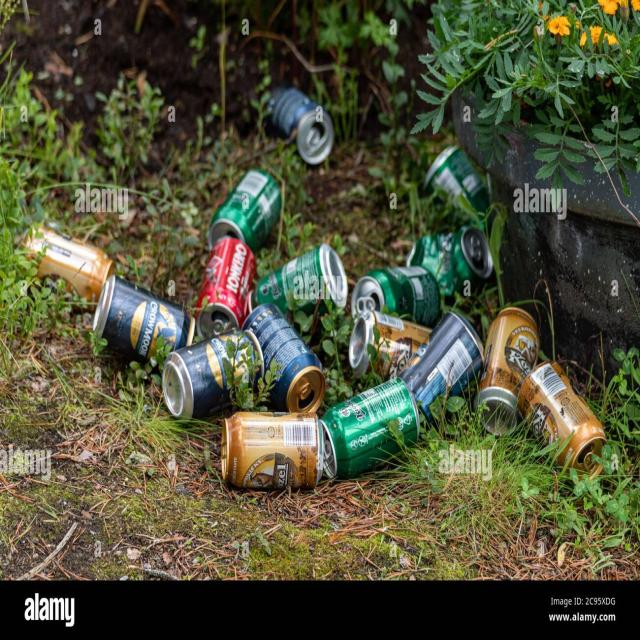aluminum_can: (510, 351, 608, 494), (98, 259, 207, 366), (12, 208, 122, 312), (317, 377, 433, 473), (212, 415, 333, 504), (418, 114, 504, 239), (164, 337, 266, 440), (477, 301, 545, 442), (350, 306, 451, 397), (266, 72, 349, 168), (248, 259, 344, 339), (346, 268, 450, 328), (218, 176, 299, 241), (210, 237, 251, 348)
